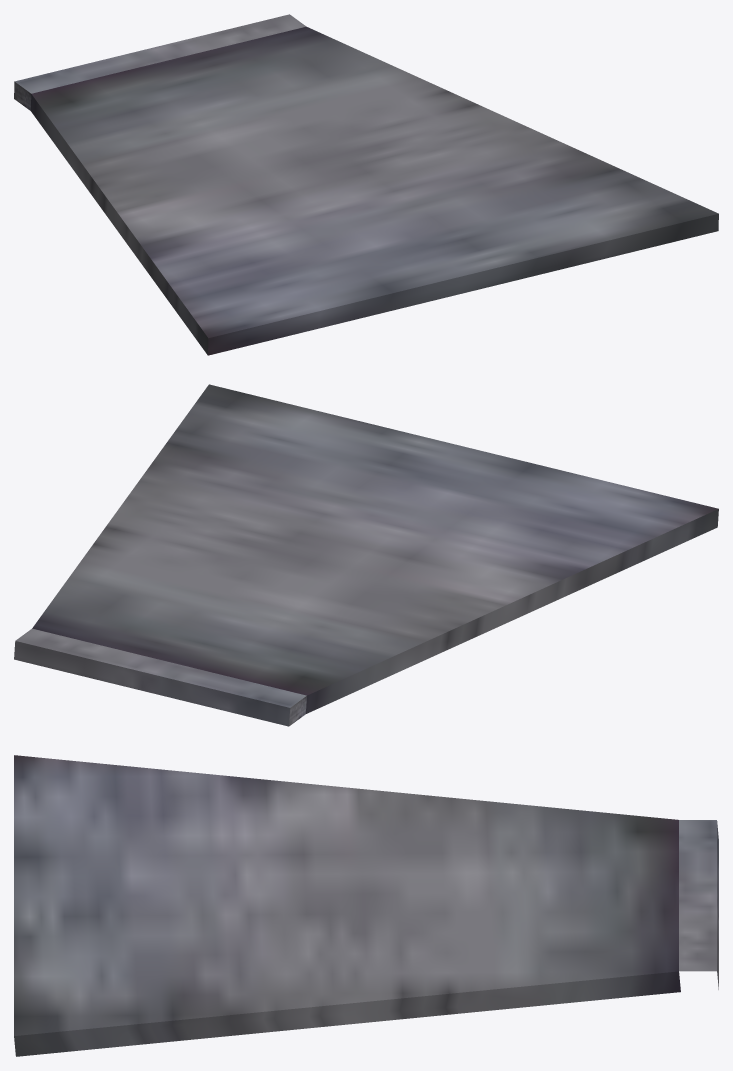
Rendered from STALOWA_BLACHA.glb.
The picture shows the model from 3 angles, top to bottom: view 1: azimuth 30°, elevation 25°; view 2: azimuth 150°, elevation 25°; view 3: azimuth 270°, elevation 25°; orthographic projection. The views are drawn at different scales.
Visible parts, largest first — view 1: STALOWA_BLACHA; view 2: STALOWA_BLACHA; view 3: STALOWA_BLACHA.
Boxes of the visible parts, bbox=[...] form: STALOWA_BLACHA: bbox=[14, 14, 718, 355]; STALOWA_BLACHA: bbox=[14, 384, 718, 726]; STALOWA_BLACHA: bbox=[14, 755, 718, 1056].
Bounding box in the file's own units: 0.2454 × 0.00833 × 0.26.
Materials: 1 (1 with a texture image).
